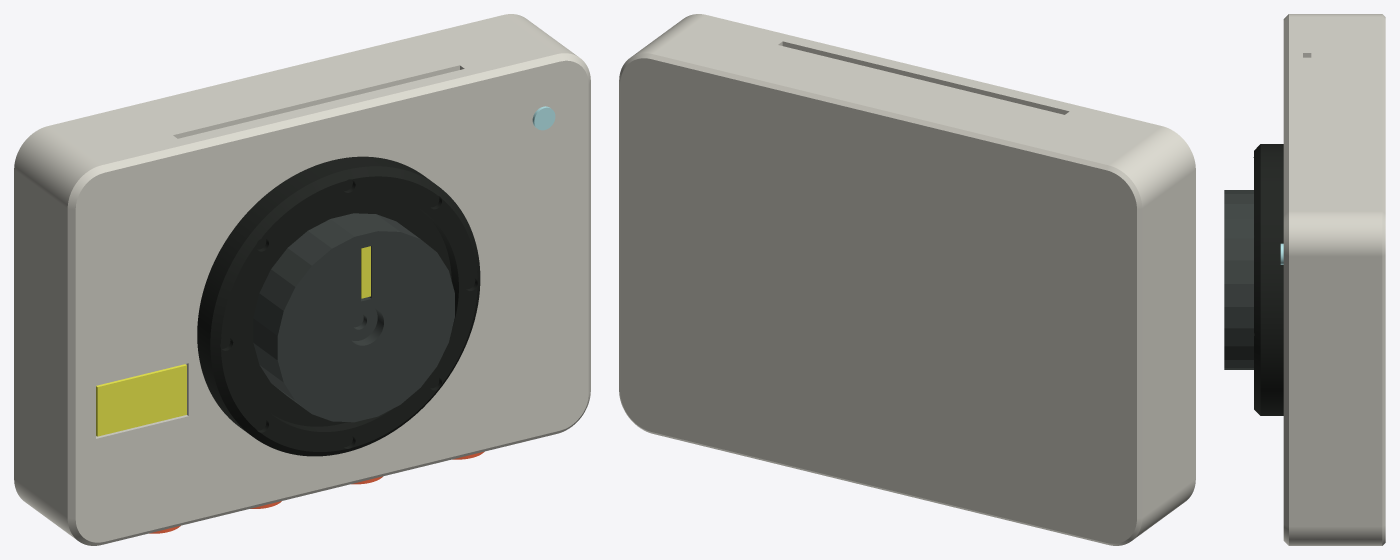
The picture shows the model from 3 angles, left to right: view 1: azimuth 30°, elevation 25°; view 2: azimuth 150°, elevation 25°; view 3: azimuth 270°, elevation 25°; orthographic projection. The views are drawn at different scales.
Visible parts, largest first — view 1: Chassis, Platter, Dial, LabelPlate; view 2: Chassis; view 3: Chassis, Platter, Dial.
Part boxes in pixels (x1=…): Chassis: x1=14, y1=14, x2=590, y2=545; Platter: x1=197, y1=156, x2=480, y2=456; Dial: x1=253, y1=213, x2=454, y2=422; LabelPlate: x1=96, y1=364, x2=186, y2=436; Chassis: x1=619, y1=14, x2=1195, y2=545; Chassis: x1=1283, y1=14, x2=1385, y2=545; Platter: x1=1253, y1=144, x2=1283, y2=415; Dial: x1=1224, y1=190, x2=1253, y2=369.
Size of the model in its own units: 124 by 88.8 by 38.
